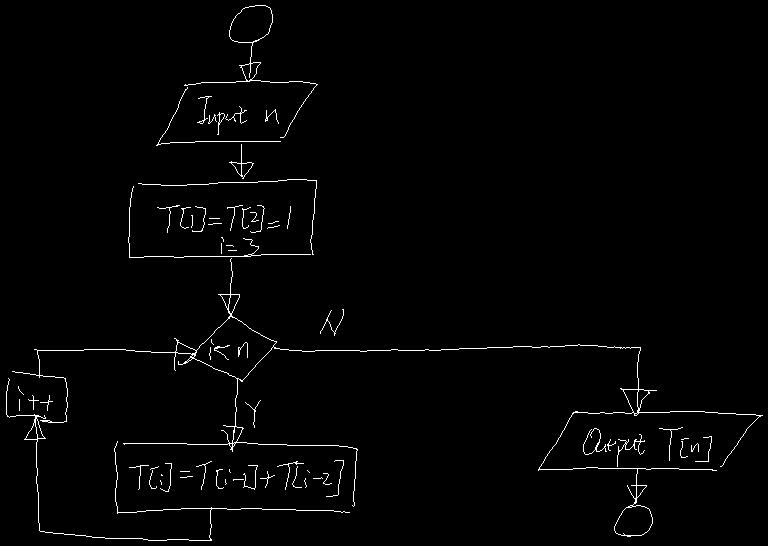arrow: (274, 344, 656, 415), (24, 414, 211, 540), (34, 338, 196, 377), (221, 378, 243, 451), (218, 258, 239, 317), (239, 41, 260, 81), (229, 144, 253, 178), (627, 468, 646, 504)
connection: (229, 5, 272, 42), (614, 505, 652, 536)
data: (538, 411, 762, 470), (156, 80, 317, 145)
decision: (184, 316, 276, 381)
process: (114, 441, 357, 513), (128, 179, 316, 257), (6, 371, 67, 422)
text: (129, 460, 343, 496), (157, 205, 290, 255), (583, 427, 711, 466), (197, 96, 278, 134), (18, 386, 52, 410), (209, 339, 247, 359), (320, 309, 343, 335), (245, 400, 260, 427)
